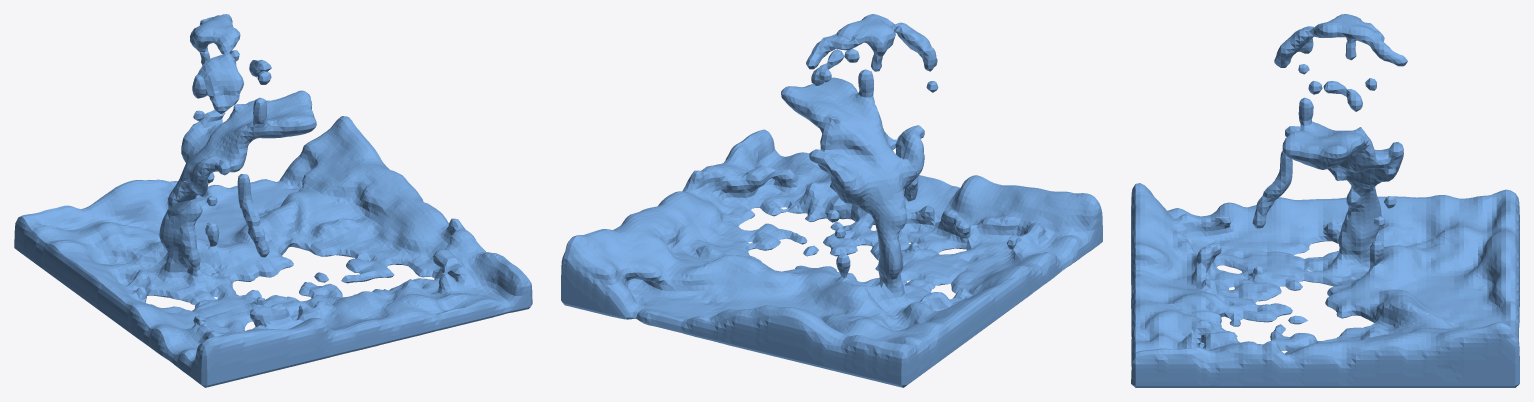
The model's file is water_0093.glb.
3 views of the same model, side by side, from view 1: azimuth 30°, elevation 25°; view 2: azimuth 150°, elevation 25°; view 3: azimuth 270°, elevation 25° (orthographic). The views are drawn at different scales.
Parts seen in each view (by area): view 1: Water_0093; view 2: Water_0093; view 3: Water_0093.
Boxes of the visible parts, box(x1,y1,x2,y2) form: Water_0093: box(14, 14, 532, 387); Water_0093: box(561, 14, 1102, 387); Water_0093: box(1131, 14, 1519, 387).
Size of the model in its own units: 4.83 by 3.63 by 4.83.
